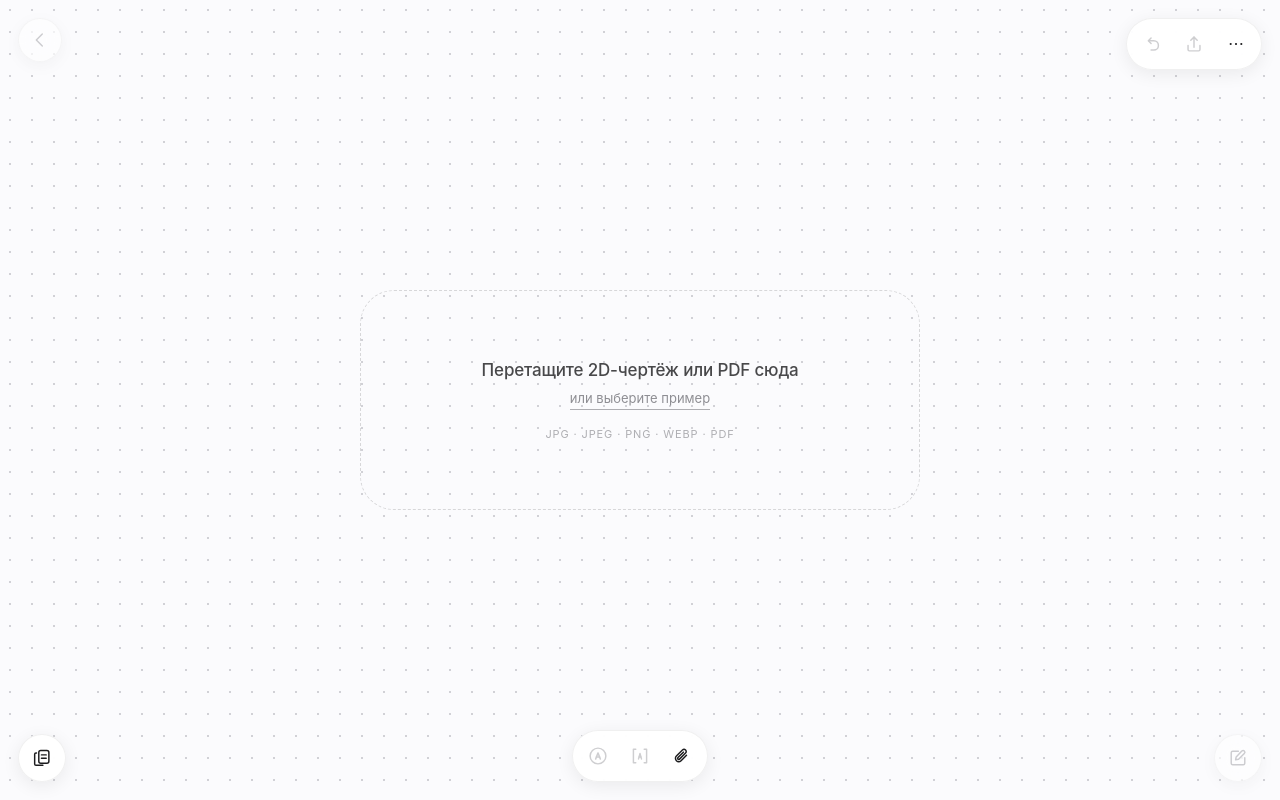
Test: холст с парящими капсулами › пример открывается из поповера и ложится листами A4 прямо на холст
Click the button named "Примеры чертежей" at (42, 758), box [18,734,66,782]
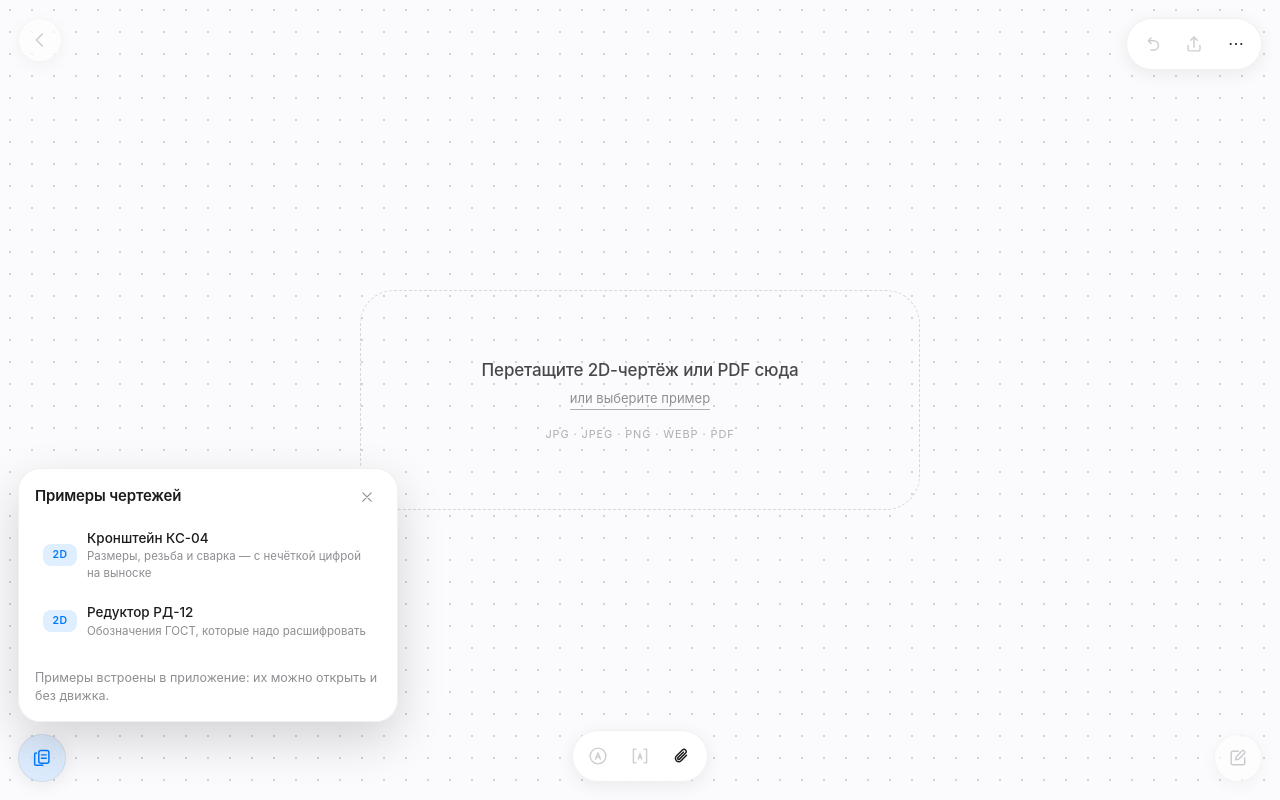
Click the button that starts with "Кронштейн КС-04" at (207, 555), box [35,518,379,591]
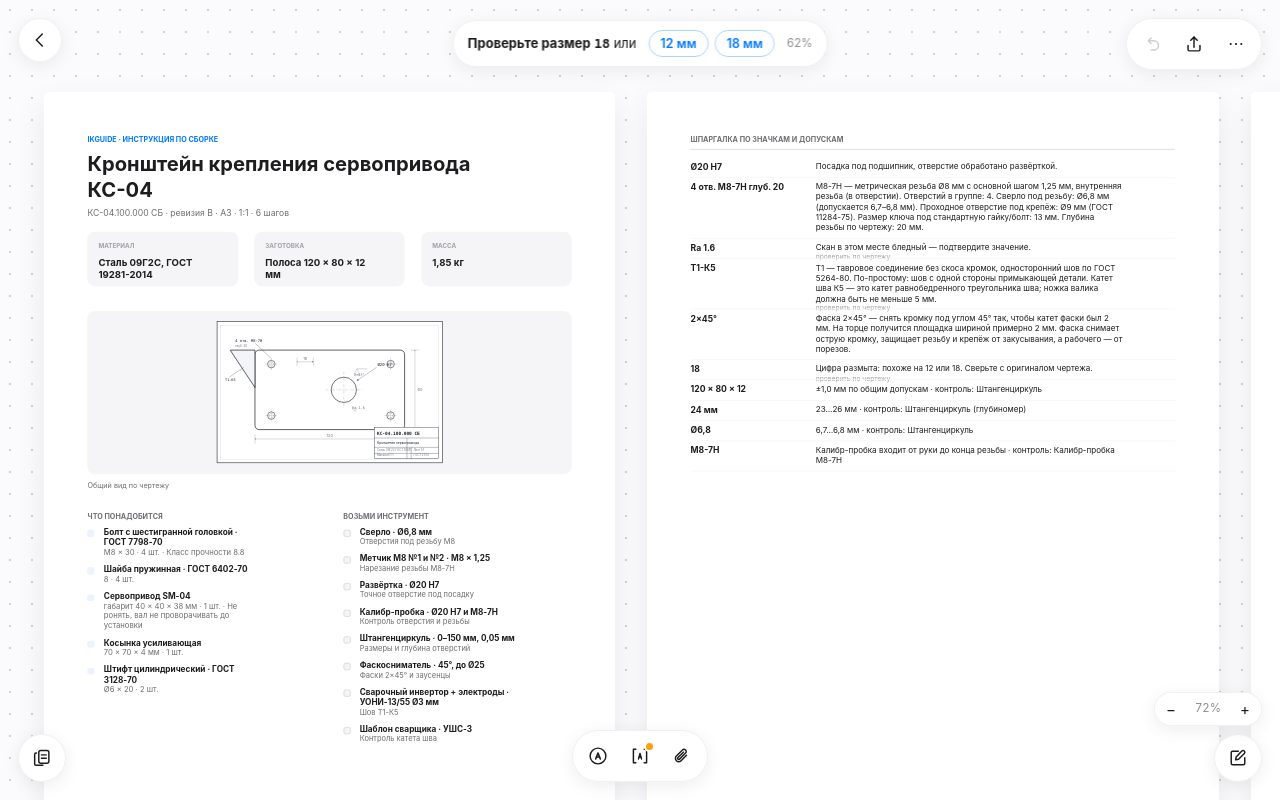
Expected: the element with class "sheets" is shown
Expected: the button named "Скачать PDF-инструкцию" is enabled, [1174,24,1214,64]
